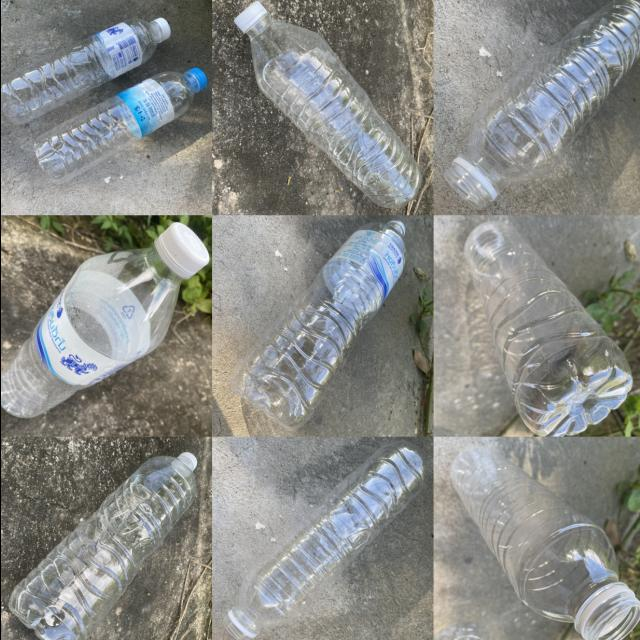plastik: (444, 0, 640, 209), (0, 223, 209, 418), (223, 441, 424, 640), (235, 3, 420, 208), (230, 221, 405, 430), (463, 220, 632, 436), (450, 448, 640, 640), (8, 452, 196, 640), (34, 68, 206, 183), (0, 18, 170, 125)
